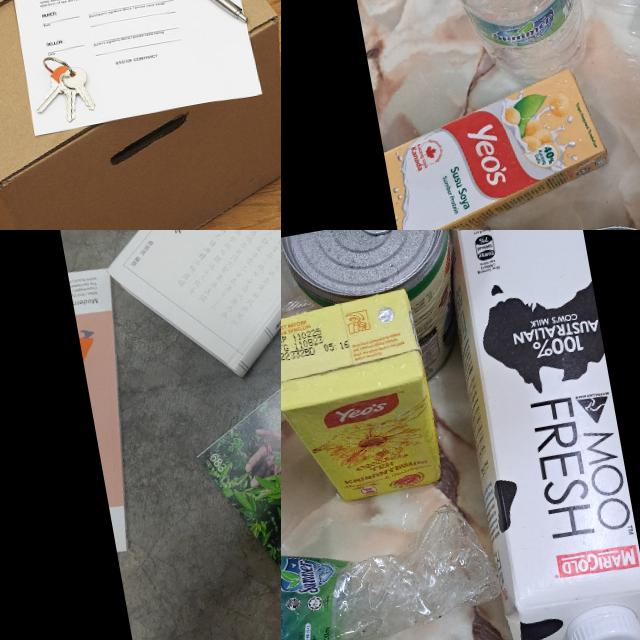aba de lata: (354, 230, 409, 239)
caixinha: (433, 230, 640, 640), (375, 67, 618, 230), (281, 287, 444, 510)
garrafa plástica: (281, 496, 516, 640), (426, 0, 596, 104)
lata: (281, 230, 474, 401)
papel: (171, 286, 281, 640), (82, 230, 281, 397), (66, 260, 161, 552)
papelão: (0, 0, 281, 230)
